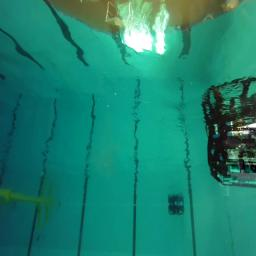Side: (207, 128, 256, 188), (168, 203, 184, 213)
